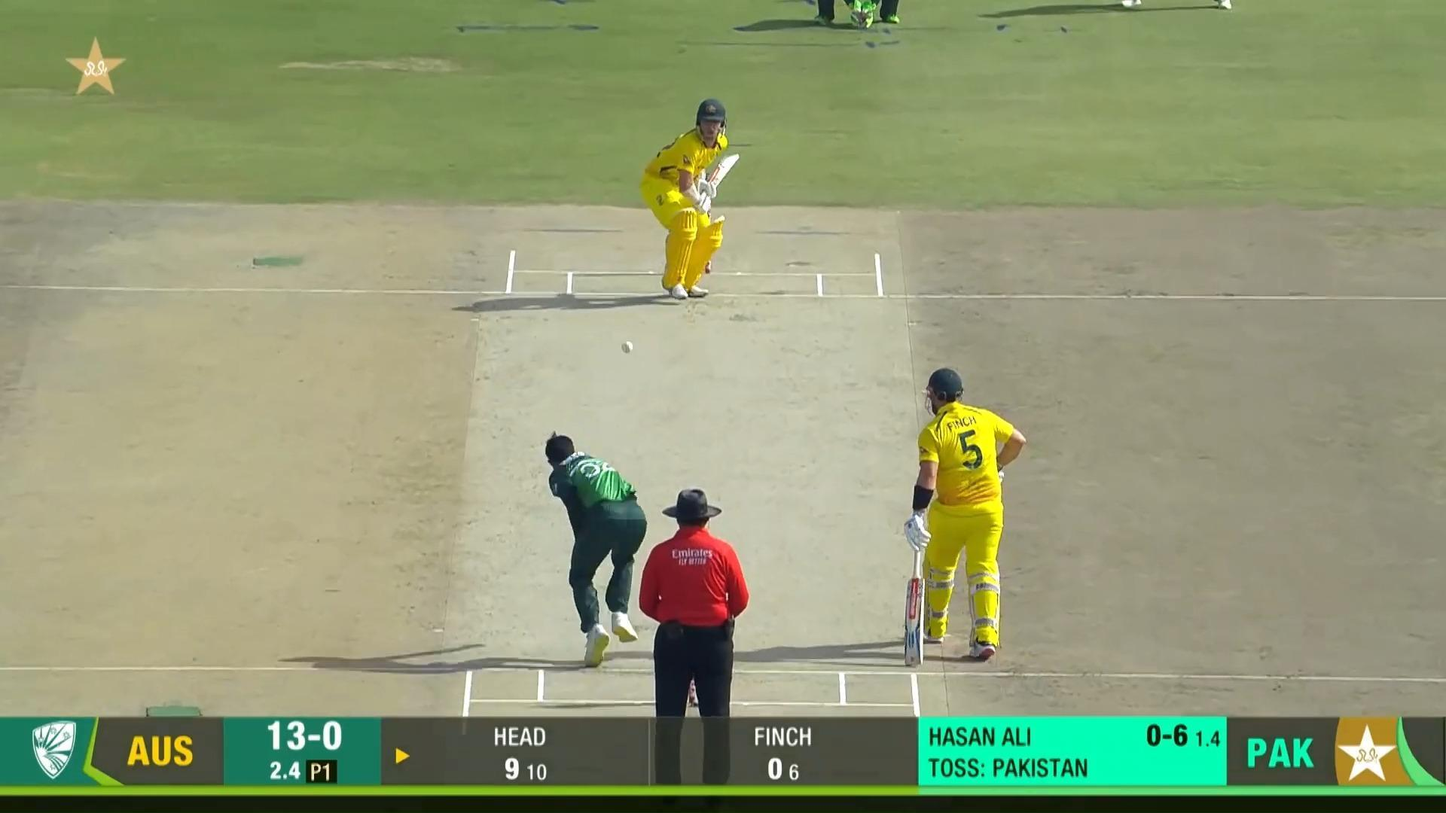BM 1: (639, 98, 740, 300)
BO: (543, 430, 650, 669)
